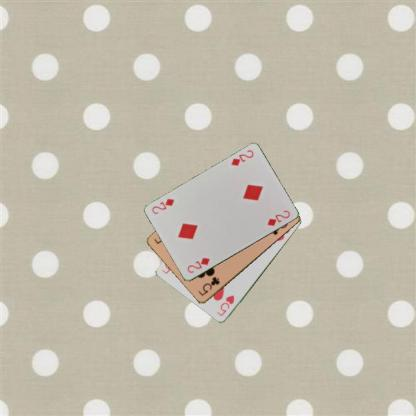2d: (228, 147, 255, 168), (184, 255, 211, 274)
5c: (196, 274, 222, 298)
5h: (214, 292, 236, 318)
